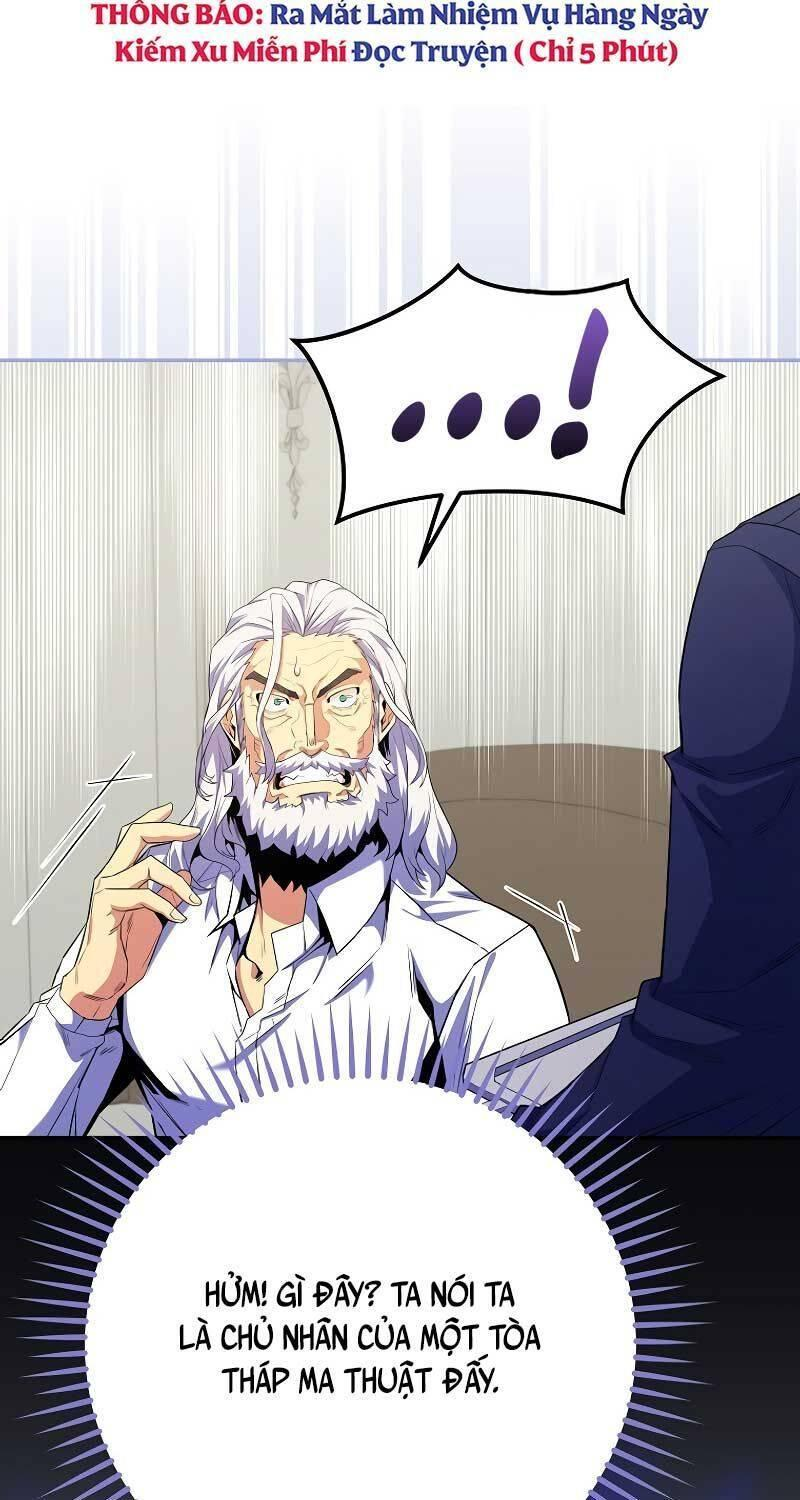quangcao: (92, 0, 716, 72)
